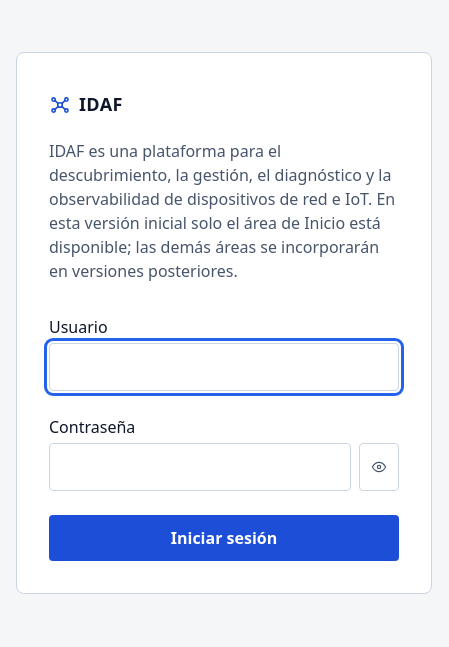
Scenario: LoginView (contract auth-and-session.md §F) › credenciales inválidas → un mensaje genérico, en role="alert", con el foco (F4; FR-004/005)
This screenshot has width=449, height=647.
Step 1. Type "alice" into the field labelled "Usuario" → (224,367), box [49,343,399,391]
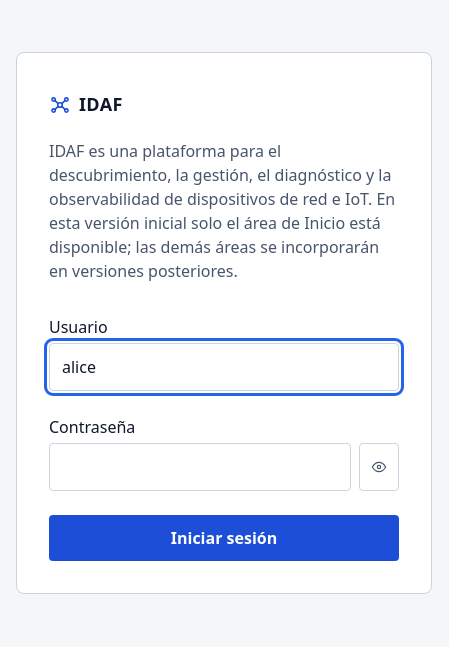
Step 2. Type "wrong" into the password field labelled "Contraseña" → (200,467), box [49,443,351,491]
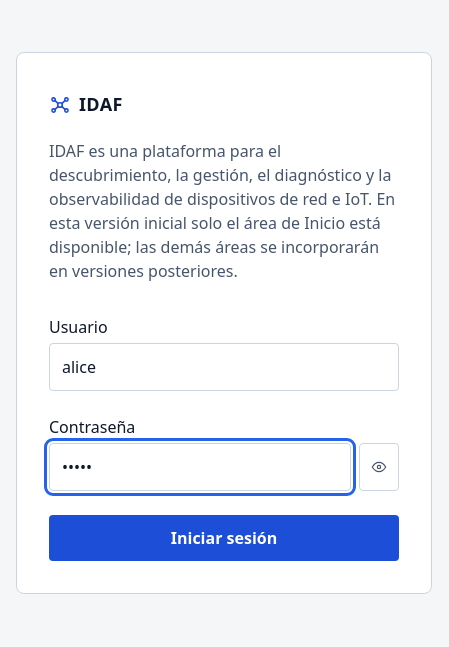
Step 3. Click the button "Iniciar sesión" → (224,538), box [49,515,399,561]
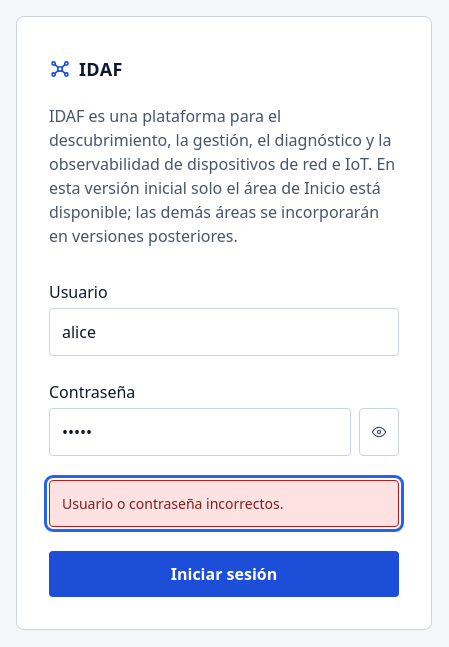
Now the message reads "Usuario o contraseña incorrectos.", box [62,494,283,513]
